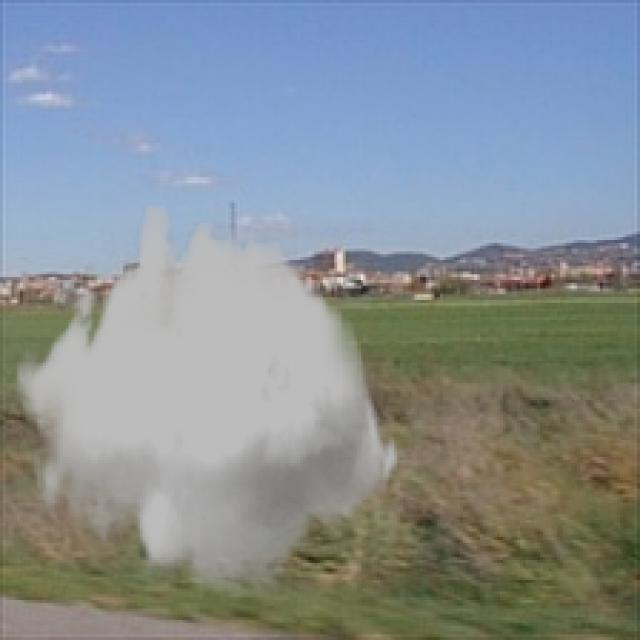smoke: (14, 206, 400, 597)
